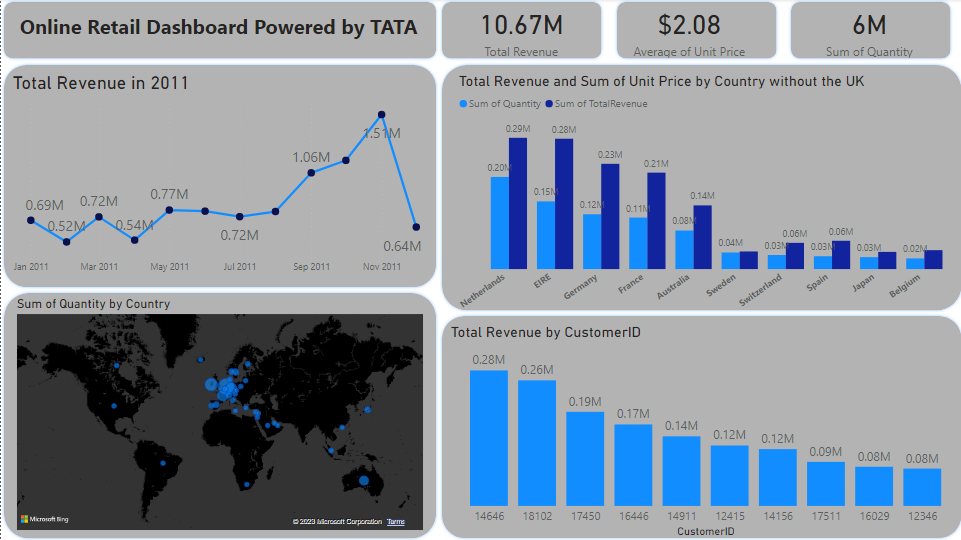

What the dashboard file says about the page in this screenshot:
{"tool":"powerbi","page":{"name":"DASHBOARD","canvas":[1280,720],"ordinal":5},"visuals":[{"type":"shape","box":[0,0,582.4,83.4],"z":0},{"type":"shape","box":[0,83.4,582.4,302.9],"z":1},{"type":"shape","box":[582.4,0,220,83.4],"z":2},{"type":"shape","box":[813.7,0,220,83.4],"z":3},{"type":"shape","box":[1044.9,0,220,83.4],"z":4},{"type":"shape","box":[0,386.3,582.4,333.7],"z":5},{"type":"shape","box":[582.4,83.4,698,333.7],"z":6},{"type":"textbox","box":[20.5,11.7,582.4,71.7],"z":7},{"type":"lineChart","title":"Total Revenue in 2011","fields":{"Category":["Online Retail.InvoiceDate.Variation.Date Hierarchy.Year","Online Retail.InvoiceDate.Variation.Date Hierarchy.Month"],"Y":["Sum(Online Retail.TotalRevenue)"]},"box":[10.2,96.6,572.2,276.6],"z":8},{"type":"clusteredColumnChart","title":"Total Revenue and Sum of Unit Price by Country without the UK","fields":{"Y":["Sum(Online Retail.Quantity)","Sum(Online Retail.TotalRevenue)"],"Category":["Online Retail.Country"]},"box":[602.9,96.6,677.6,333.7],"z":9},{"type":"map","fields":{"Category":["Online Retail.Country"],"Size":["Sum(Online Retail.Quantity)"]},"box":[16.1,395.1,550.2,316.1],"z":10},{"type":"shape","box":[582.4,417.1,698,302.9],"z":11},{"type":"clusteredColumnChart","title":"Total Revenue by CustomerID","fields":{"Category":["Online Retail.CustomerID"],"Y":["Sum(Online Retail.TotalRevenue)"]},"box":[592.7,430.2,687.8,289.8],"z":12},{"type":"card","fields":{"Values":["Sum(Online Retail.TotalRevenue)"]},"box":[591.2,0,200.5,83.4],"z":14},{"type":"card","fields":{"Values":["Median(Online Retail.UnitPrice)"]},"box":[813.7,0,200.5,83.4],"z":15},{"type":"card","fields":{"Values":["Sum(Online Retail.Quantity)"]},"box":[1053.7,0,200.5,83.4],"z":16}]}

Visuals, with their boxes in screenshot pixels (x1, y1, x2, y2), scaled from the page's 1280x720 canvas onto the 961x540 screenshot:
shape: 0,0,437,63
shape: 0,63,437,290
shape: 437,0,602,63
shape: 611,0,776,63
shape: 784,0,950,63
shape: 0,290,437,539
shape: 437,63,960,313
textbox: 15,9,453,63
"Total Revenue in 2011" lineChart: 8,72,437,280
"Total Revenue and Sum of Unit Price by Country without the UK" clusteredColumnChart: 453,72,960,323
map - Online Retail.Country x Sum(Online Retail.Quantity): 12,296,425,533
shape: 437,313,960,539
"Total Revenue by CustomerID" clusteredColumnChart: 445,323,960,539
card - Sum(Online Retail.TotalRevenue): 444,0,594,63
card - Median(Online Retail.UnitPrice): 611,0,761,63
card - Sum(Online Retail.Quantity): 791,0,942,63
